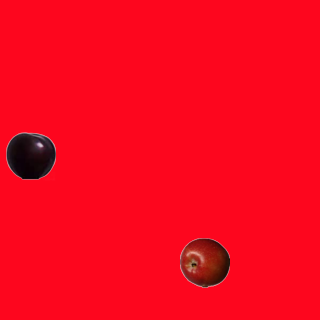Apple Braeburn: (179, 237, 229, 287)
Cherry Wax Black: (5, 130, 55, 180)
